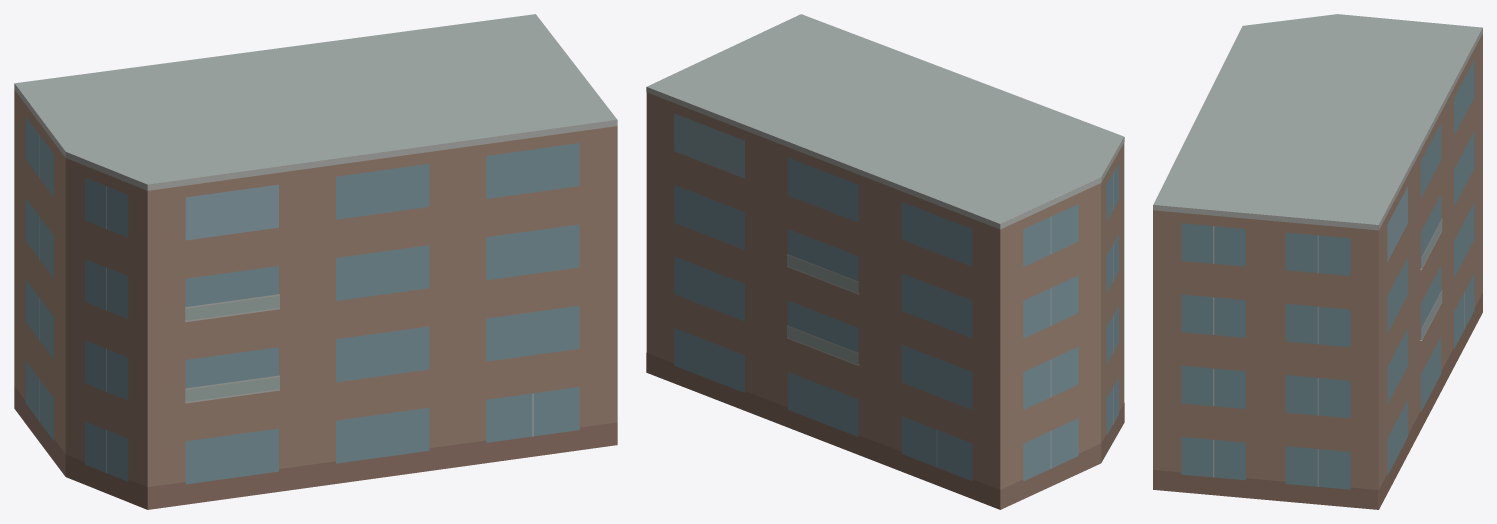
File: survey-upis-32930750.glb
3 renders of one model, left to right at view 1: azimuth 30°, elevation 25°; view 2: azimuth 150°, elevation 25°; view 3: azimuth 270°, elevation 25°, orthographic. The views are drawn at different scales.
Parts seen in each view (by area): view 1: survey-upis-32930750.tmp; view 2: survey-upis-32930750.tmp; view 3: survey-upis-32930750.tmp.
Boxes of the visible parts, x1,y1,x2,y2 form: survey-upis-32930750.tmp: (14,14,617,509); survey-upis-32930750.tmp: (646,14,1124,509); survey-upis-32930750.tmp: (1153,14,1482,509).
Bounding box in the file's own units: 20.34 × 12.8 × 13.44.
